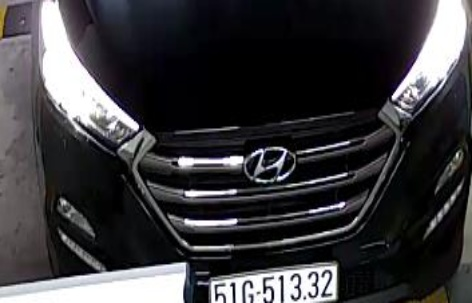plate: (202, 261, 343, 303)
